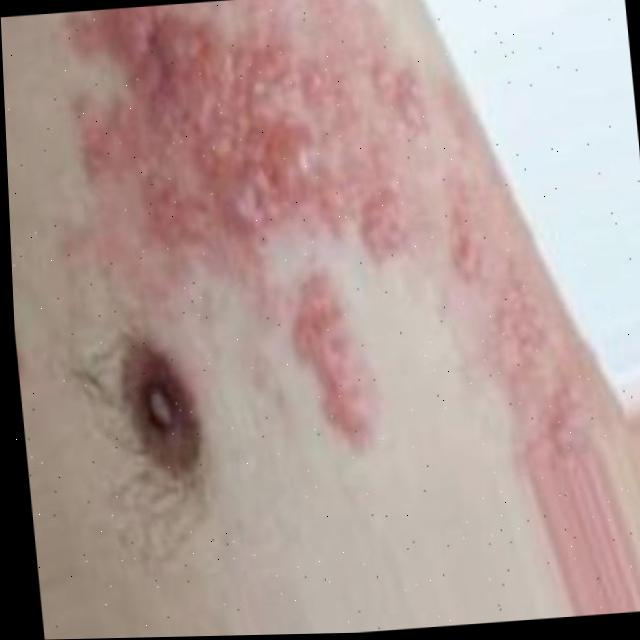Shingles: (64, 0, 450, 258), (483, 289, 575, 412), (287, 304, 369, 422)
